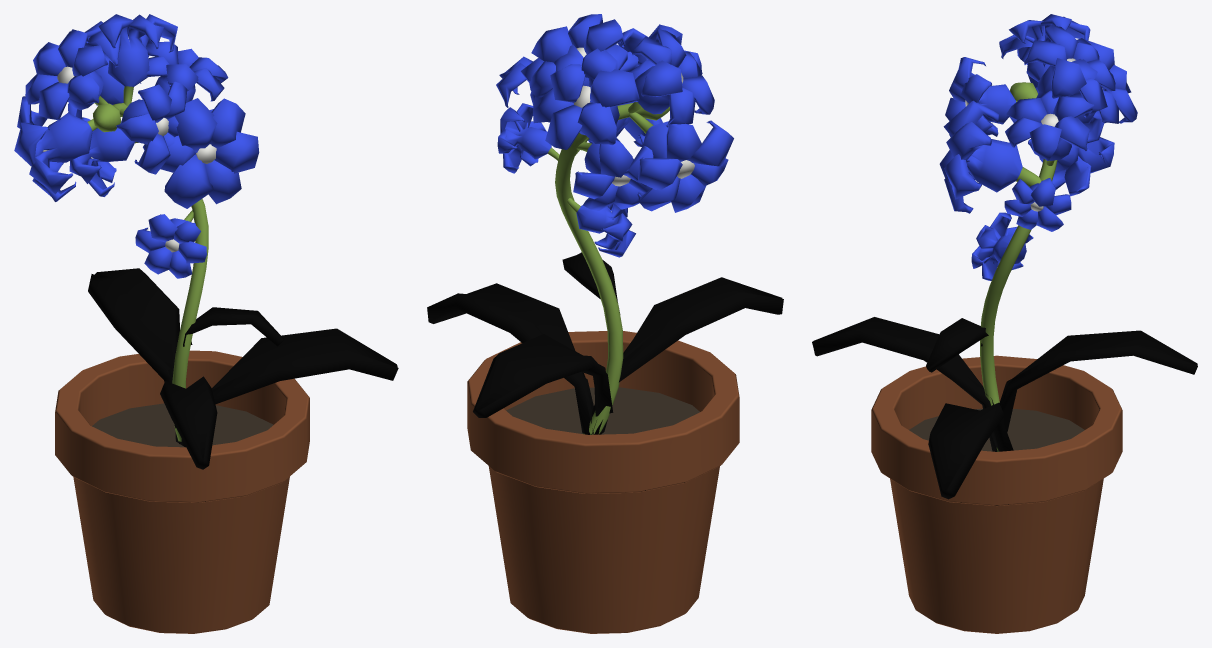
The model's file is Bluebell.glb.
3 views of the same model, side by side, from view 1: azimuth 30°, elevation 25°; view 2: azimuth 150°, elevation 25°; view 3: azimuth 270°, elevation 25° (orthographic). The views are drawn at different scales.
Visible parts, largest first — view 1: Potted Plant - Bluebell; view 2: Potted Plant - Bluebell; view 3: Potted Plant - Bluebell.
Boxes of the visible parts, bbox=[...] form: Potted Plant - Bluebell: bbox=[14, 14, 398, 633]; Potted Plant - Bluebell: bbox=[427, 14, 783, 633]; Potted Plant - Bluebell: bbox=[812, 14, 1197, 633].
Bounding box in the file's own units: 0.6067 × 1 × 0.6322.
